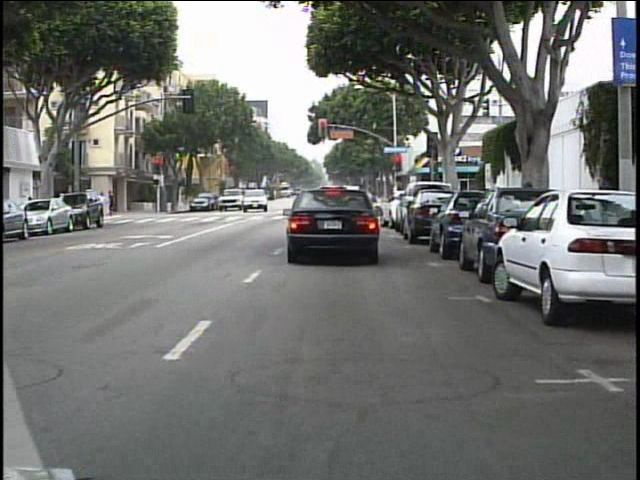person: (107, 188, 122, 218)
